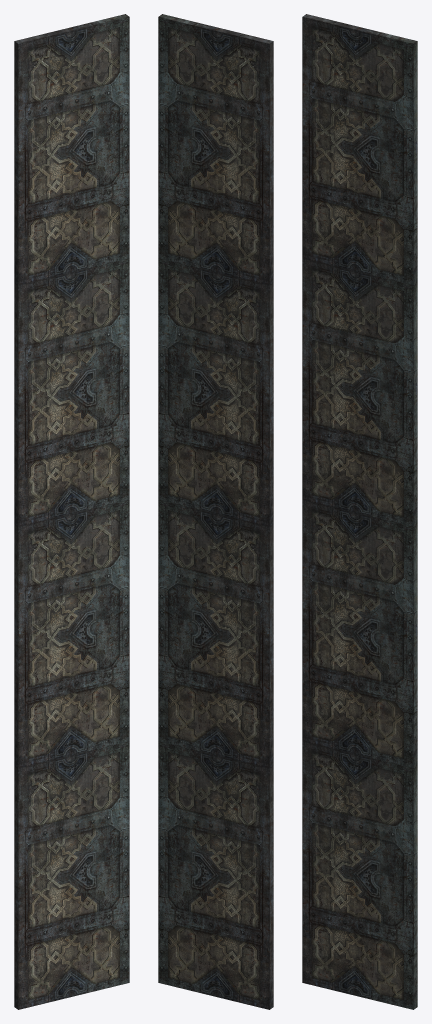
The model's file is Gate.fbx.
3 views of the same model, side by side, from view 1: azimuth 30°, elevation 25°; view 2: azimuth 150°, elevation 25°; view 3: azimuth 330°, elevation 25° (orthographic).
Visible parts, largest first — view 1: polySurface33; view 2: polySurface33; view 3: polySurface33.
Part boxes in pixels (<box>): polySurface33: <box>14,14,129,1009</box>; polySurface33: <box>158,14,273,1009</box>; polySurface33: <box>302,14,417,1009</box>.
Size of the model in its own units: 2.53 by 21.03 by 0.1549.
